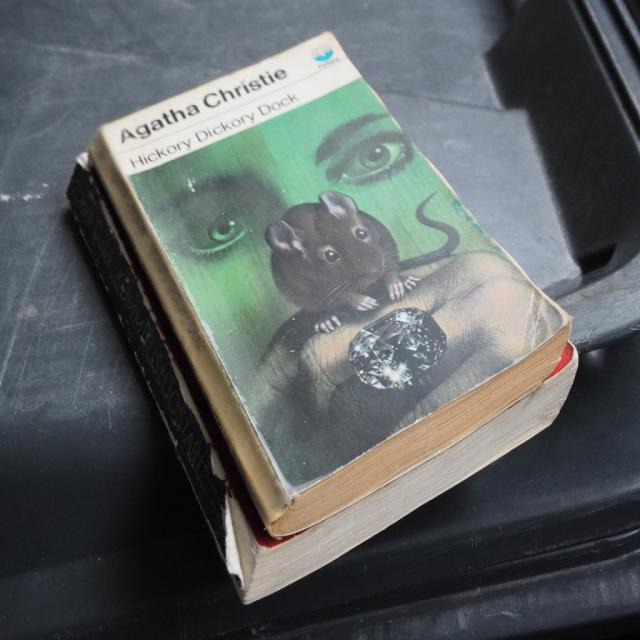rat: (264, 192, 458, 332)
